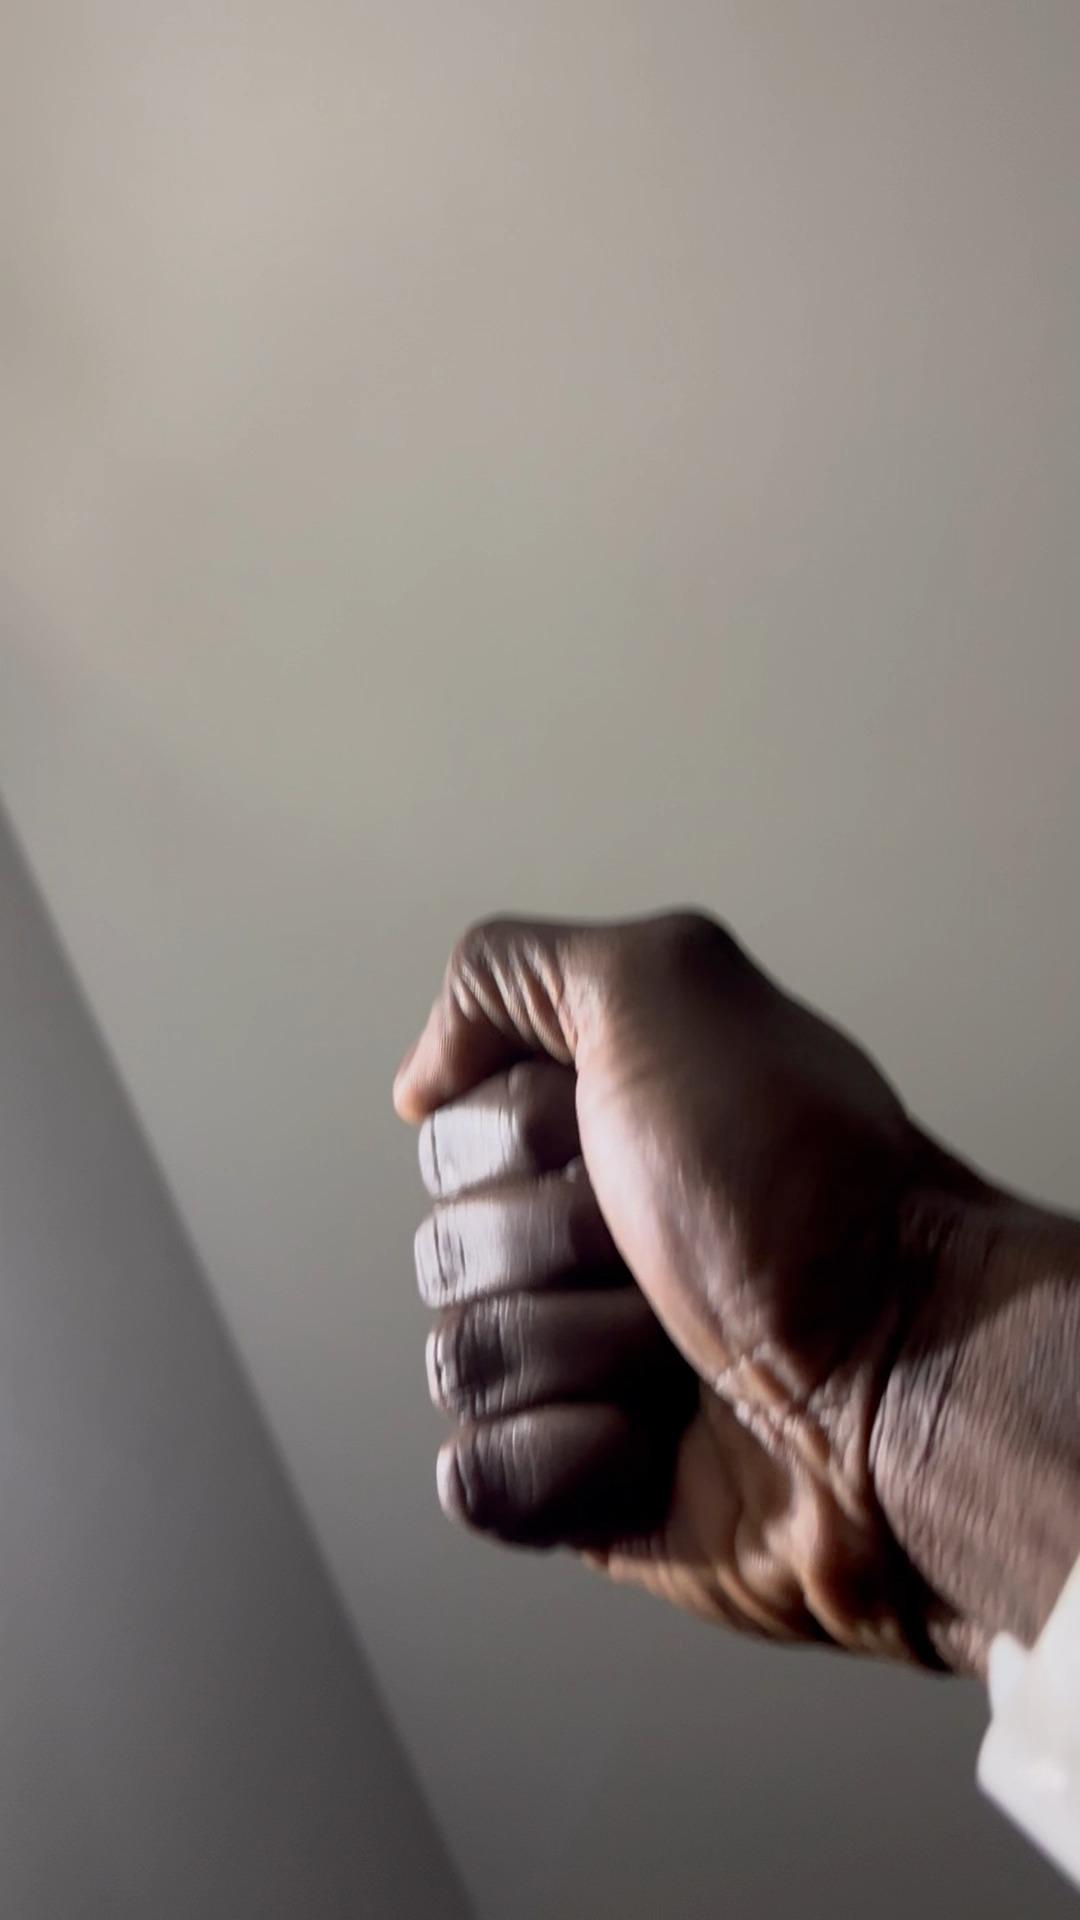Rock: (390, 897, 1002, 1673)
